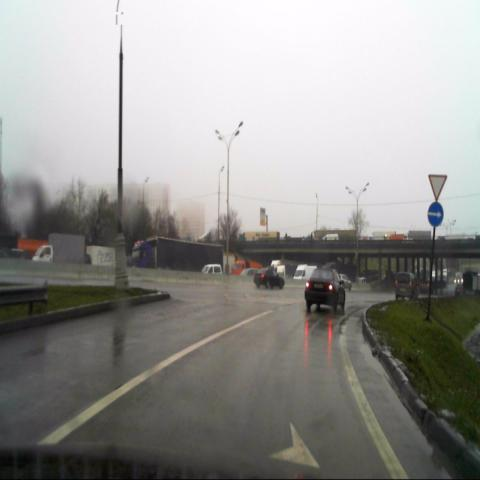4_1_2_1: (428, 202, 444, 226)
